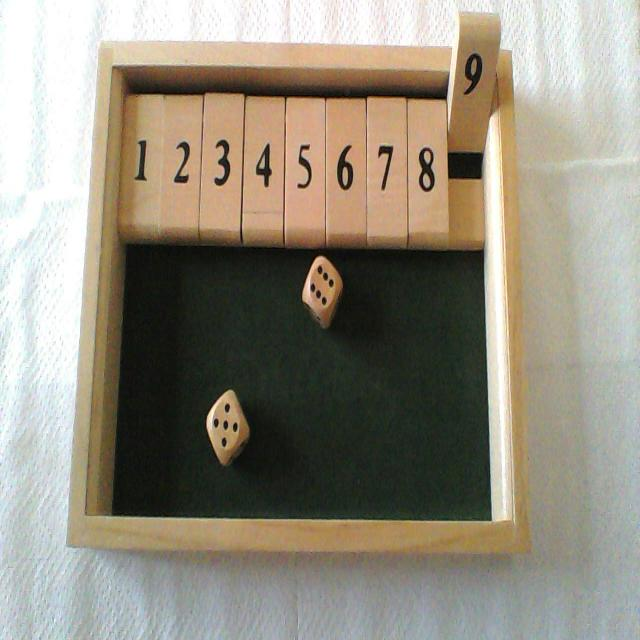5: (204, 385, 252, 470)
6: (300, 254, 346, 331)
C1: (117, 40, 158, 244)
C2: (162, 43, 198, 247)
C3: (201, 41, 241, 248)
C4: (243, 42, 282, 249)
C5: (286, 44, 324, 248)
C6: (328, 44, 366, 247)
C7: (368, 45, 406, 249)
C8: (407, 46, 446, 250)
O9: (448, 14, 501, 250)
